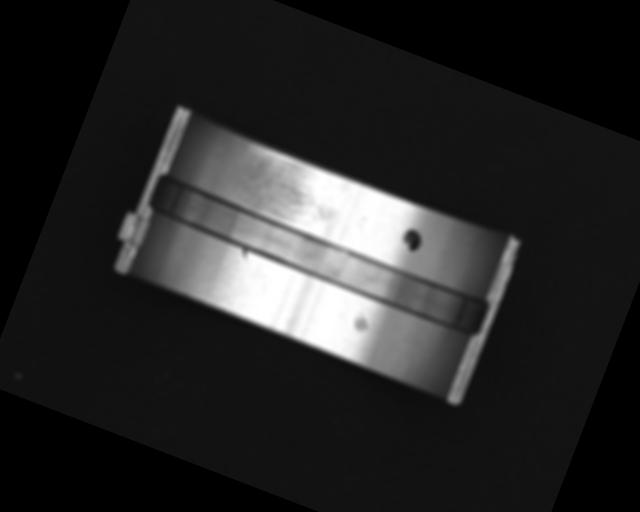blot: (399, 225, 426, 255)
bruise: (350, 308, 375, 336), (239, 247, 250, 261)
gap: (142, 172, 493, 339)
scratch: (230, 143, 349, 238)
